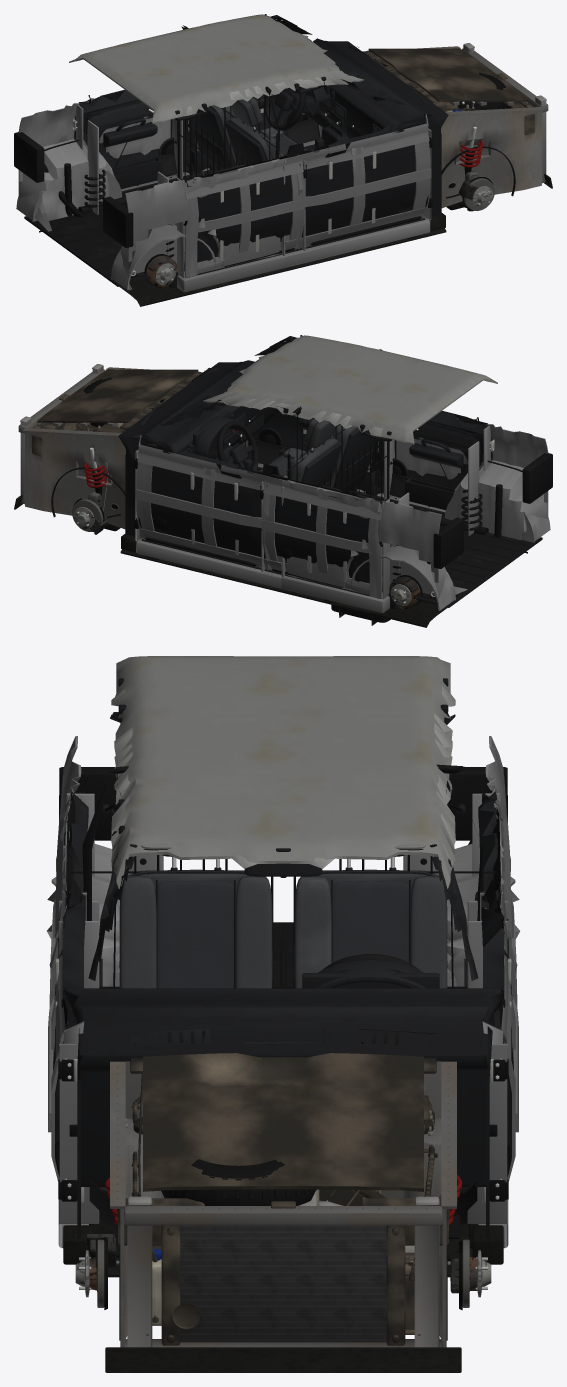
The model's file is furgaozinho_completo.glb.
The picture shows the model from 3 angles, top to bottom: view 1: azimuth 30°, elevation 25°; view 2: azimuth 150°, elevation 25°; view 3: azimuth 270°, elevation 25°; orthographic projection. The views are drawn at different scales.
Parts seen in each view (by area): view 1: interior_carga, interior_forro_teto, engine_paralama_interno_dir, door_card_fr_chapa, interior_painel, door_card_fr, door_card_rr_chapa, door_card_rl, hood_manta, door_card_rr, interior_portamalas_lanternas, jamb_fr_soleira (+21 smaller); view 2: interior_carga, interior_forro_teto, engine_paralama_interno_esq, interior_painel, door_card_fl_chapa, door_card_fl, door_card_rl_chapa, door_card_rr, hood_manta, door_card_rl, interior_portamalas_lanternas, interior_banco_dianteiro_dir (+22 smaller); view 3: interior_forro_teto, interior_painel, hood_manta, engine_radiador, interior_banco_dianteiro_dir, engine_travessa, interior_banco_dianteiro_esq, under_saias, interior_carga, engine_paralama_interno_esq, engine_paralama_interno_dir, interior_portamalas_lanternas (+23 smaller).
Boxes of the visible parts, left/top/right/bottom form: interior_carga: left=16, top=98, right=280, bottom=290; interior_forro_teto: left=69, top=14, right=363, bottom=123; engine_paralama_interno_dir: left=441, top=104, right=544, bottom=208; door_card_fr_chapa: left=279, top=114, right=431, bottom=250; interior_painel: left=288, top=38, right=448, bottom=138; door_card_fr: left=284, top=121, right=425, bottom=236; door_card_rr_chapa: left=177, top=154, right=305, bottom=278; door_card_rl: left=79, top=89, right=189, bottom=189; hood_manta: left=368, top=48, right=529, bottom=105; door_card_rr: left=184, top=153, right=300, bottom=262; interior_portamalas_lanternas: left=14, top=132, right=133, bottom=247; jamb_fr_soleira: left=285, top=218, right=430, bottom=267; interior_carga: left=286, top=419, right=550, bottom=610; interior_forro_teto: left=203, top=335, right=497, bottom=444; engine_paralama_interno_esq: left=22, top=425, right=125, bottom=529; interior_painel: left=118, top=360, right=277, bottom=507; door_card_fl_chapa: left=135, top=435, right=287, bottom=570; door_card_fl: left=141, top=443, right=280, bottom=557; door_card_rl_chapa: left=261, top=478, right=389, bottom=599; door_card_rr: left=377, top=410, right=487, bottom=510; hood_manta: left=37, top=369, right=198, bottom=426; door_card_rl: left=266, top=474, right=382, bottom=583; interior_portamalas_lanternas: left=433, top=453, right=552, bottom=568; interior_banco_dianteiro_dir: left=260, top=424, right=376, bottom=492; interior_forro_teto: left=110, top=656, right=455, bottom=889; interior_painel: left=62, top=960, right=504, bottom=1186; hood_manta: left=142, top=1053, right=424, bottom=1191; engine_radiador: left=161, top=1225, right=405, bottom=1345; interior_banco_dianteiro_dir: left=119, top=854, right=272, bottom=988; engine_travessa: left=118, top=1190, right=448, bottom=1347; interior_banco_dianteiro_esq: left=294, top=854, right=447, bottom=988; under_saias: left=63, top=1225, right=503, bottom=1372; interior_carga: left=47, top=736, right=519, bottom=986; engine_paralama_interno_esq: left=403, top=1061, right=456, bottom=1347; engine_paralama_interno_dir: left=110, top=1061, right=163, bottom=1347; interior_portamalas_lanternas: left=59, top=767, right=507, bottom=840.
Size of what is drawn, in the model's own units: 3.25 by 1.46 by 1.52.
53 materials, 53 textured.
